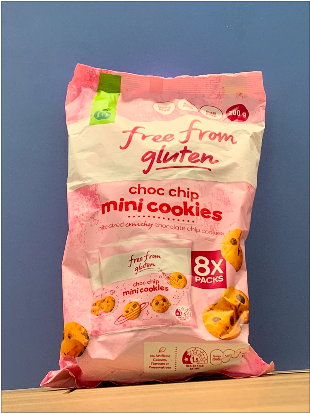Cookies_200-299g: (73, 91, 241, 365)
